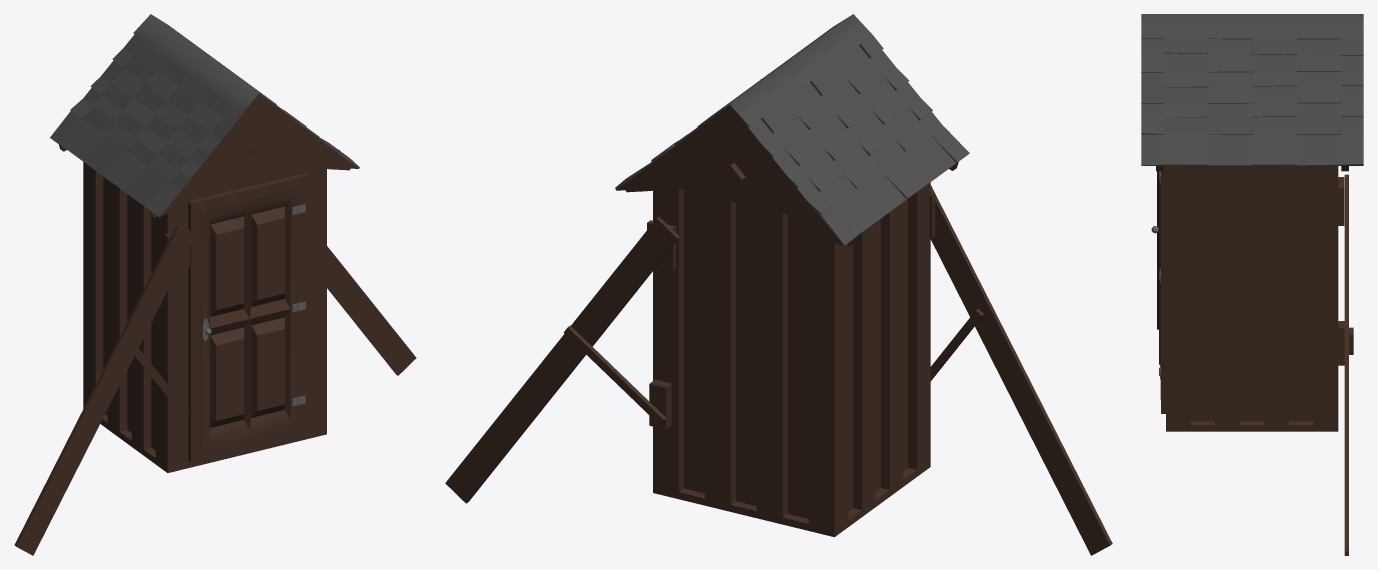
Rendered from OutHouse_Proxy.fbx.
3 renders of one model, left to right at view 1: azimuth 30°, elevation 25°; view 2: azimuth 150°, elevation 25°; view 3: azimuth 270°, elevation 25°, orthographic. The views are drawn at different scales.
Visible parts, largest first — view 1: outhousebase, OutHouse:pCube2Yaro, Door, SupportBeam1, SupportBeam, SupportBeam2; view 2: outhousebase, OutHouse:pCube2Yaro, SupportBeam, SupportBeam1, SupportBeam3, SupportBlock3, SupportBeam2; view 3: outhousebase, OutHouse:pCube2Yaro, SupportBeam, Door, SupportBlock2, SupportBlock3, SupportBeam1.
Part boxes in pixels (x1,y1,x2,y2): outhousebase: (83, 162, 326, 472); OutHouse:pCube2Yaro: (50, 14, 359, 217); Door: (201, 186, 297, 451); SupportBeam1: (14, 225, 195, 555); SupportBeam: (327, 246, 416, 375); SupportBeam2: (135, 348, 188, 415); outhousebase: (653, 182, 930, 537); OutHouse:pCube2Yaro: (615, 14, 969, 246); SupportBeam: (445, 217, 679, 503); SupportBeam1: (930, 185, 1112, 555); SupportBeam3: (563, 325, 666, 425); SupportBlock3: (649, 379, 671, 429); SupportBeam2: (930, 308, 983, 380); outhousebase: (1161, 166, 1338, 431); OutHouse:pCube2Yaro: (1141, 14, 1363, 171); SupportBeam: (1344, 174, 1348, 555); Door: (1159, 171, 1160, 399); SupportBlock2: (1338, 177, 1344, 225); SupportBlock3: (1338, 321, 1344, 365); SupportBeam1: (1157, 171, 1159, 329).
Size of the model in its own units: 4.2 by 3.39 by 1.61.
